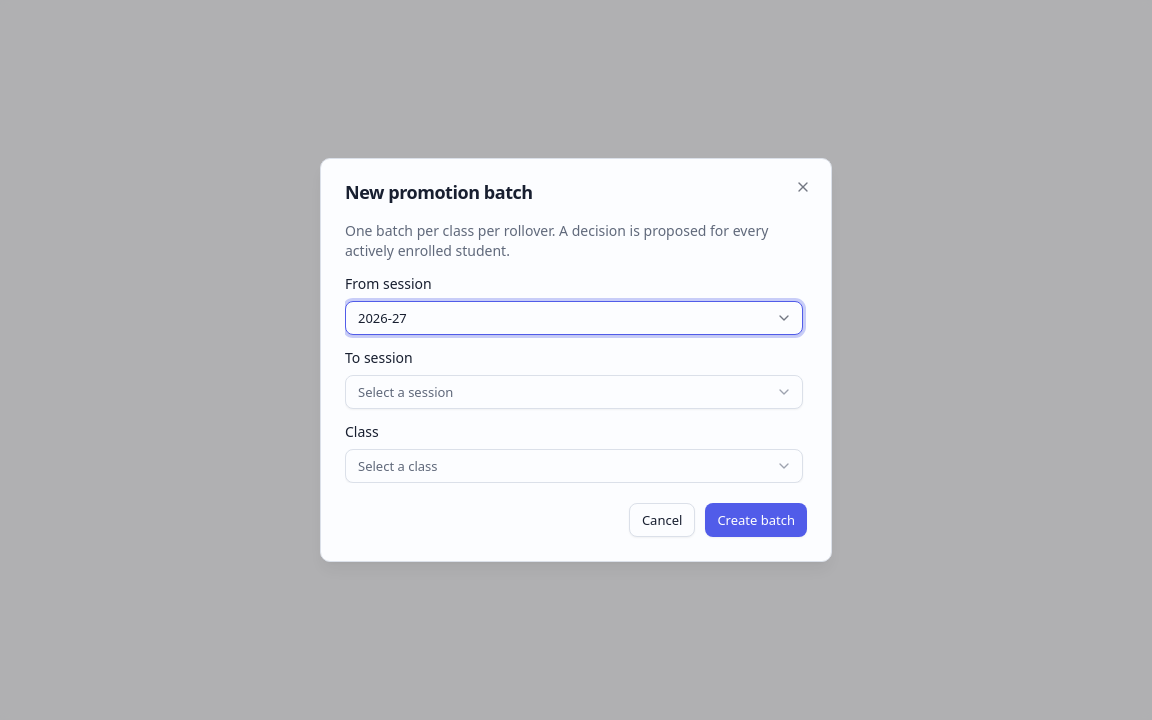
Test: CreatePromotionBatchDialog › the choices › offers as the target neither the source nor a closed session
The image size is (1152, 720).
Click the dropdown named "To session".
click(406, 392)  # box [345, 375, 803, 409]
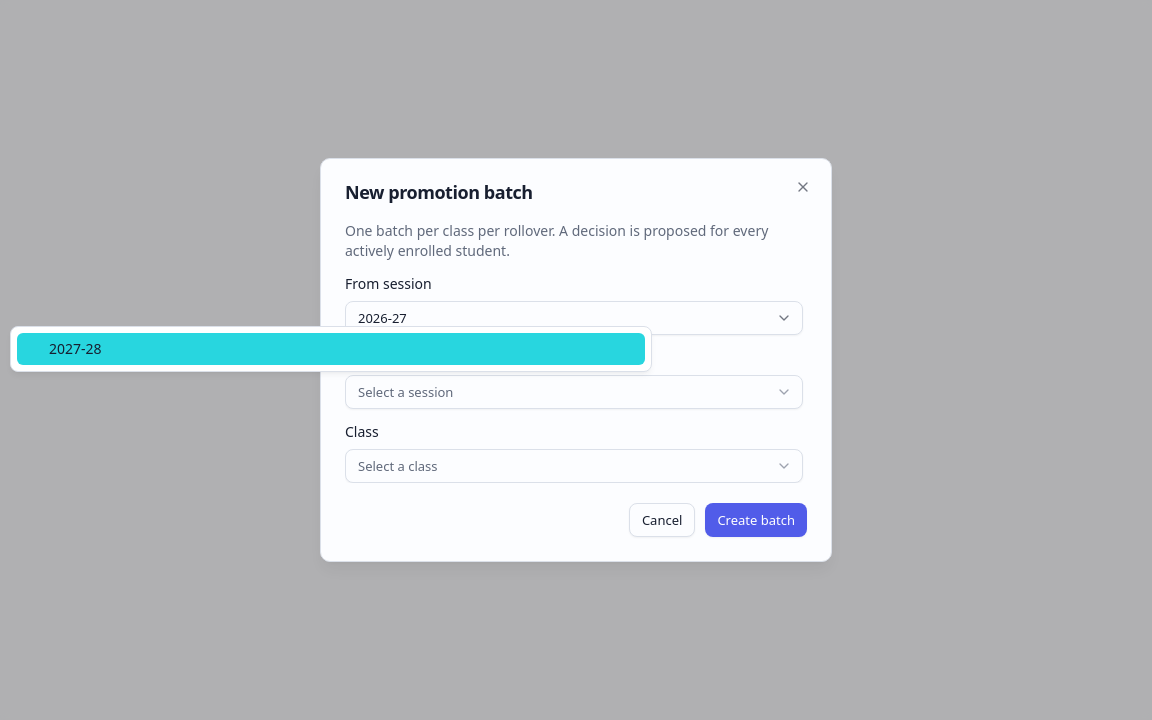
expect the option "2027-28" is shown: met, box [17, 333, 645, 365]
